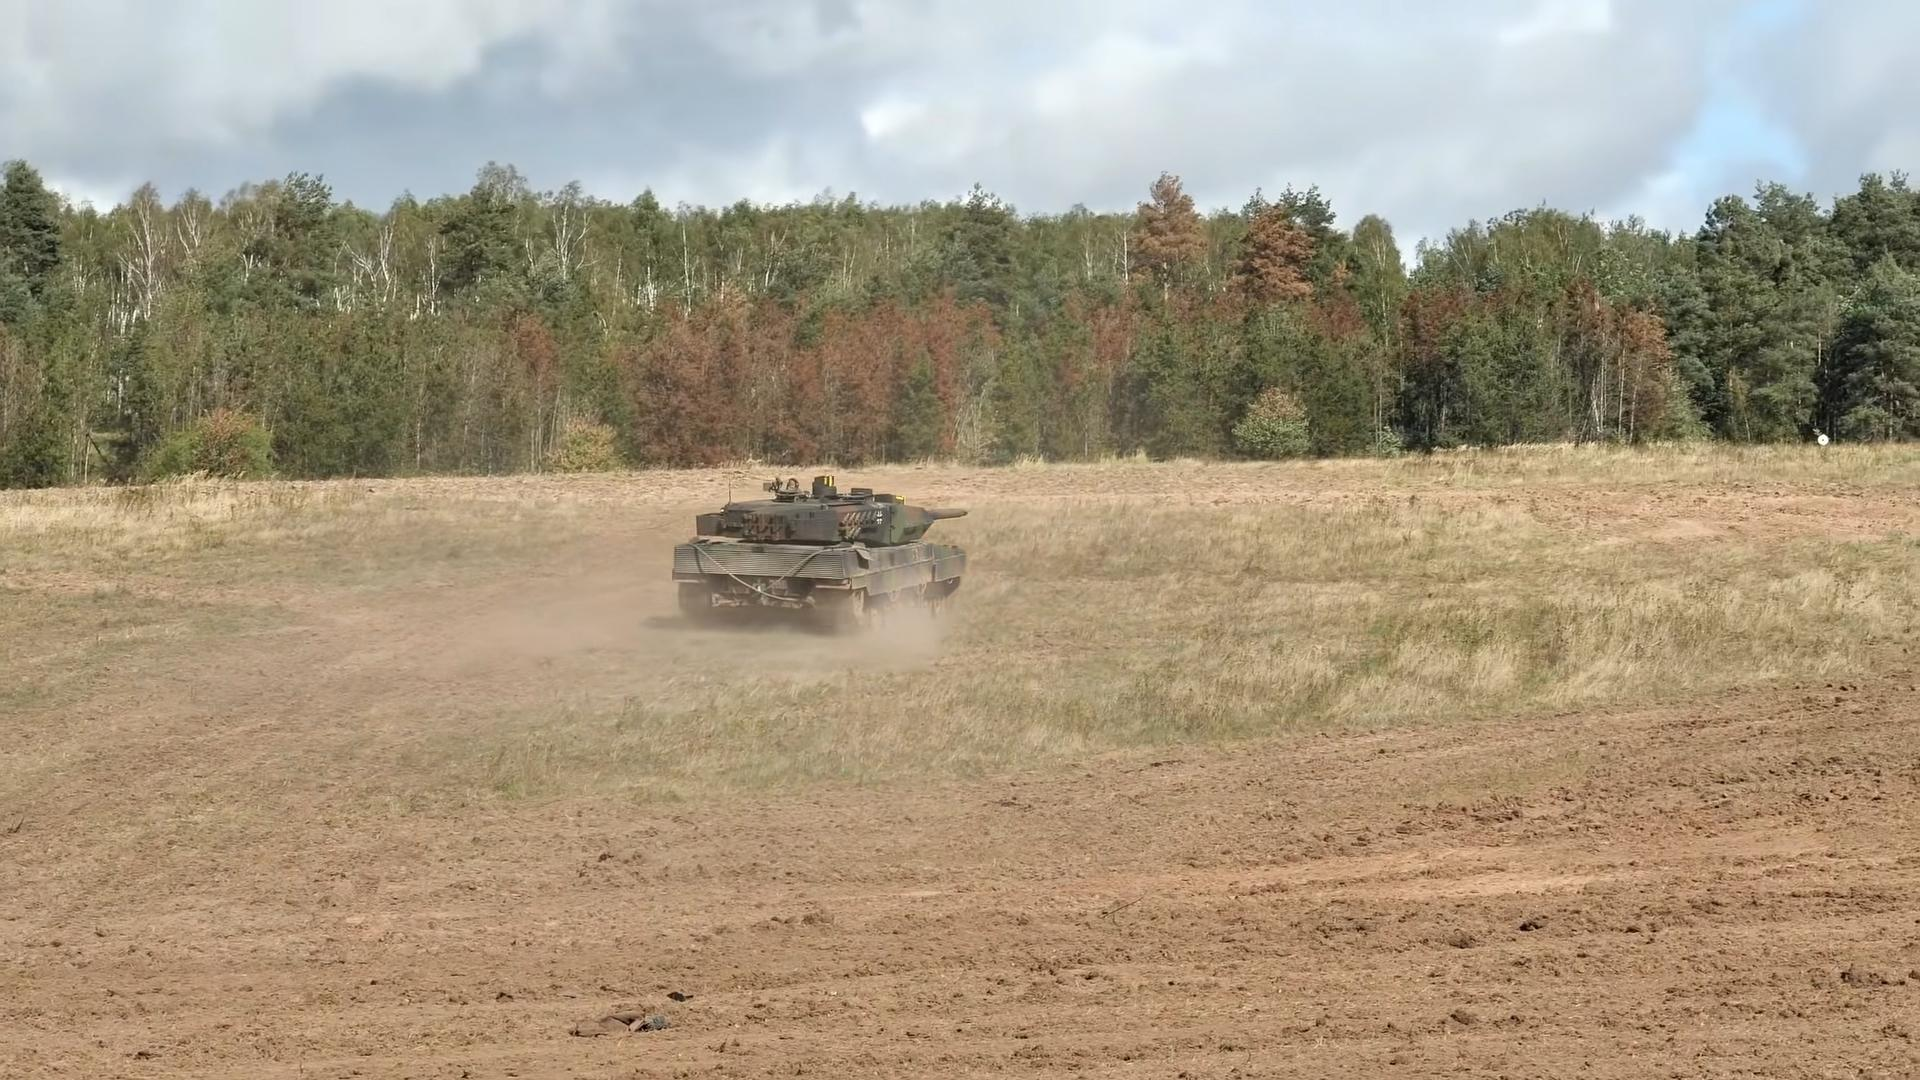tank: (673, 476, 967, 634)
